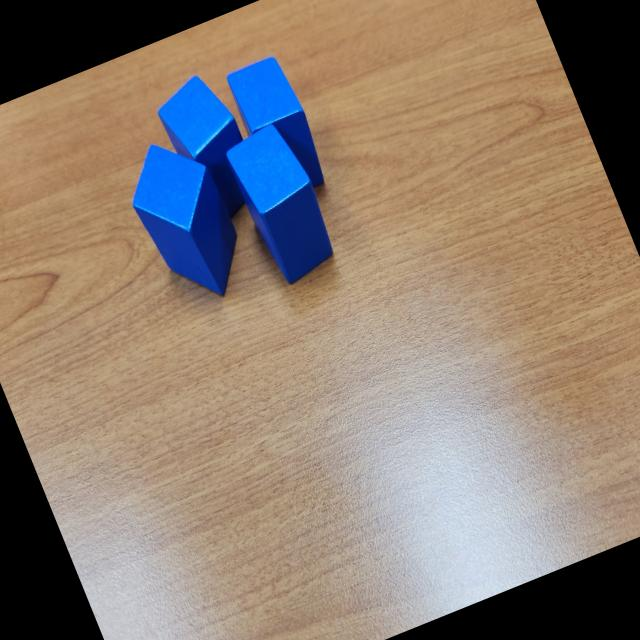blue: (112, 125, 258, 314), (218, 115, 344, 288), (149, 67, 268, 225), (224, 50, 334, 204)
